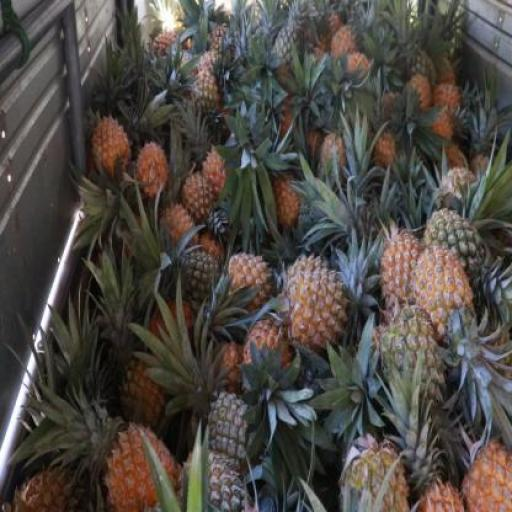------------------------------: (427, 214, 494, 328), (380, 315, 450, 407), (118, 362, 168, 437), (191, 74, 224, 132)
Pineapple - v8 v1: (416, 248, 479, 350), (108, 429, 182, 511), (286, 257, 348, 352), (383, 238, 432, 326), (244, 318, 290, 398), (227, 256, 270, 313), (94, 121, 134, 181), (184, 174, 222, 220), (140, 144, 169, 204)
